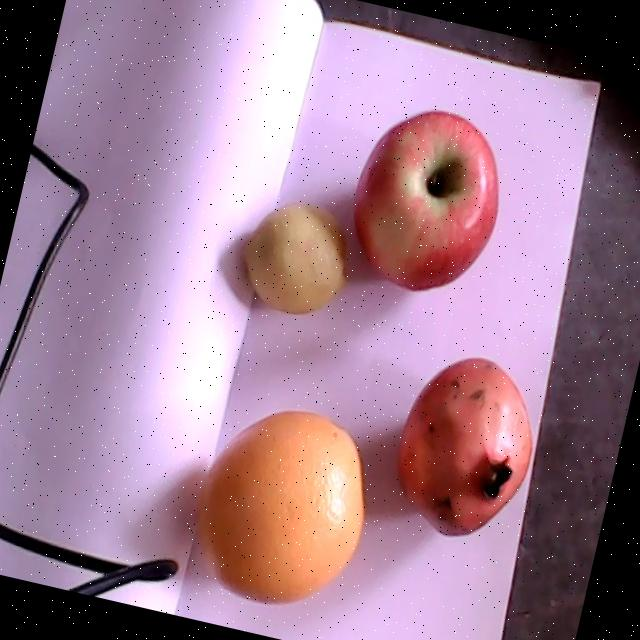apple: (351, 109, 498, 291)
lemon: (239, 203, 347, 313)
orange: (194, 411, 363, 603)
pomegranate: (396, 356, 534, 536)
